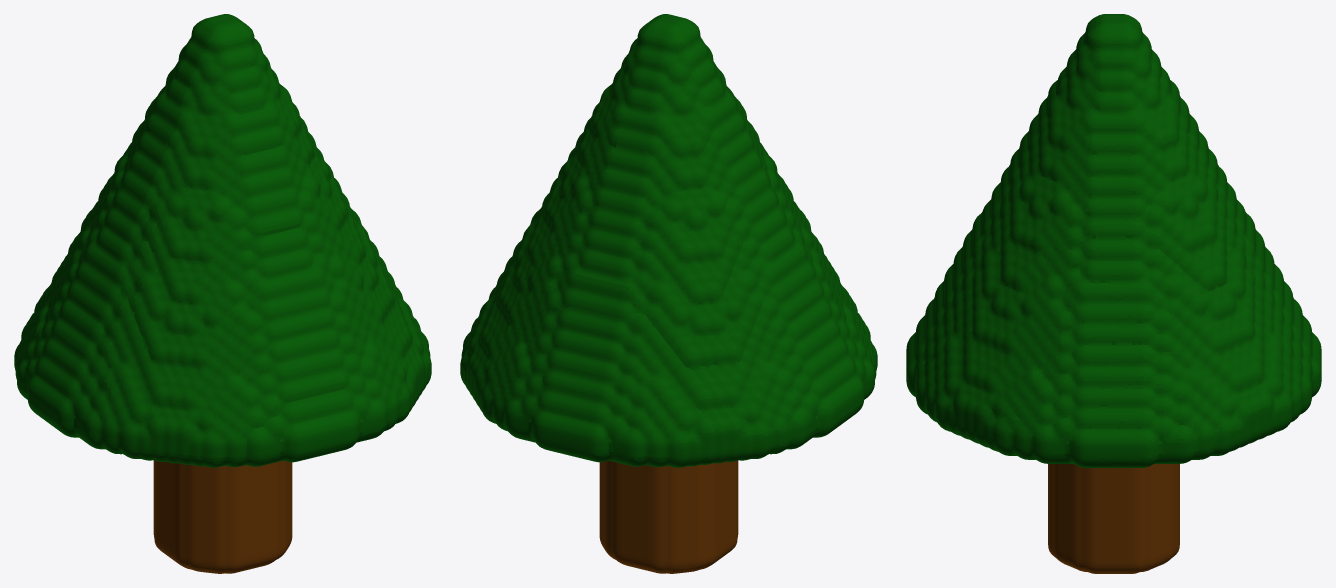
Rendered from cemara_full5.fbx.
The picture shows the model from 3 angles, left to right: view 1: azimuth 30°, elevation 25°; view 2: azimuth 150°, elevation 25°; view 3: azimuth 270°, elevation 25°; orthographic projection.
Parts seen in each view (by area): view 1: Object; view 2: Object; view 3: Object.
Part boxes in pixels (x1,y1,x2,y2): Object: (14,14,431,573); Object: (460,14,877,573); Object: (906,14,1321,573).
Size of the model in its own units: 11 by 15.63 by 11.
Materials: 1 (1 with a texture image).
